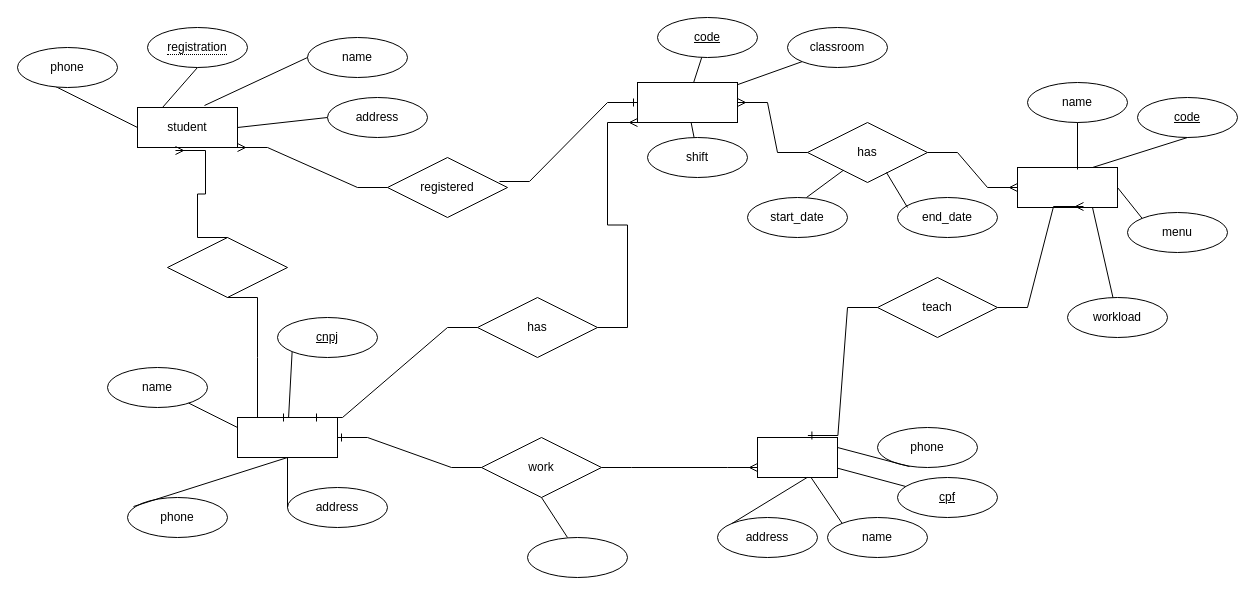
Some shapes in this 1255 by 595 pixel diagram are drawn without their labels. The shapes that lost their labels are listed below. From the top down, each one's box as (x1, y1, x2, y2) in pixels, then its label:
(636, 82, 738, 122): class
(1016, 166, 1118, 208): subject
(166, 236, 288, 298): study
(236, 416, 338, 458): school
(756, 436, 838, 478): teacher
(526, 536, 628, 578): admission_date
